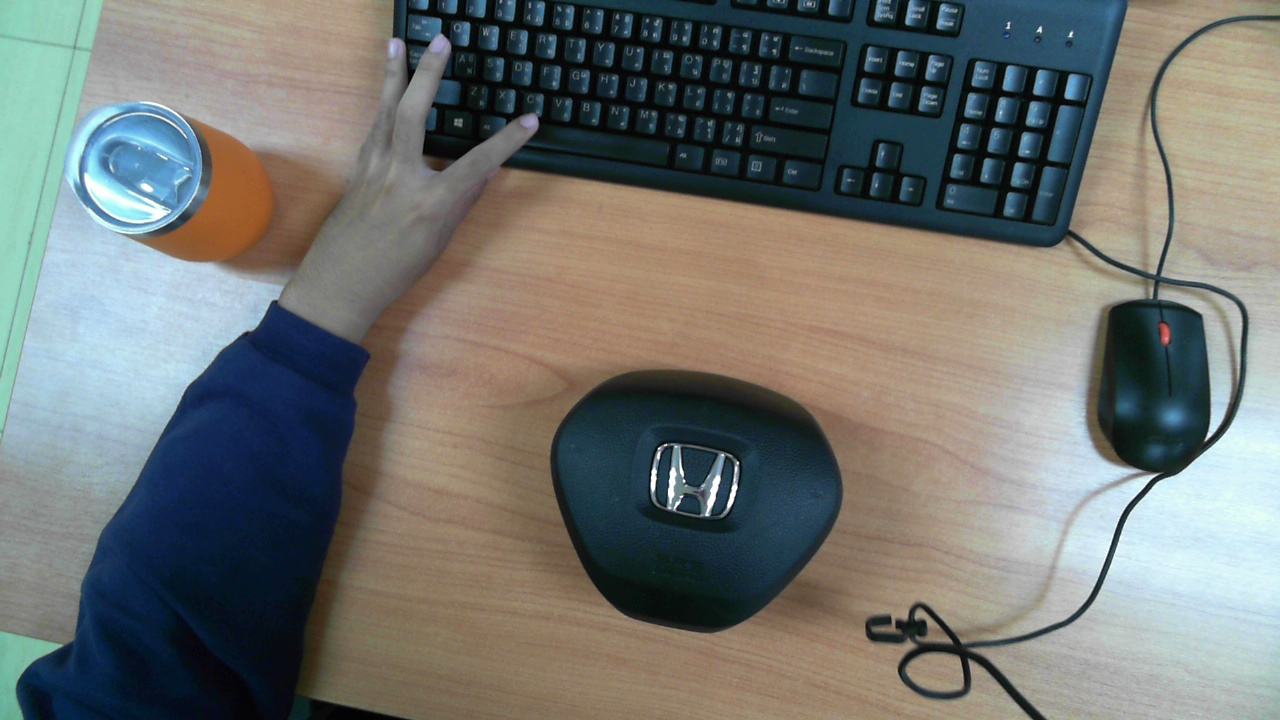Airbag: (551, 371, 844, 632)
